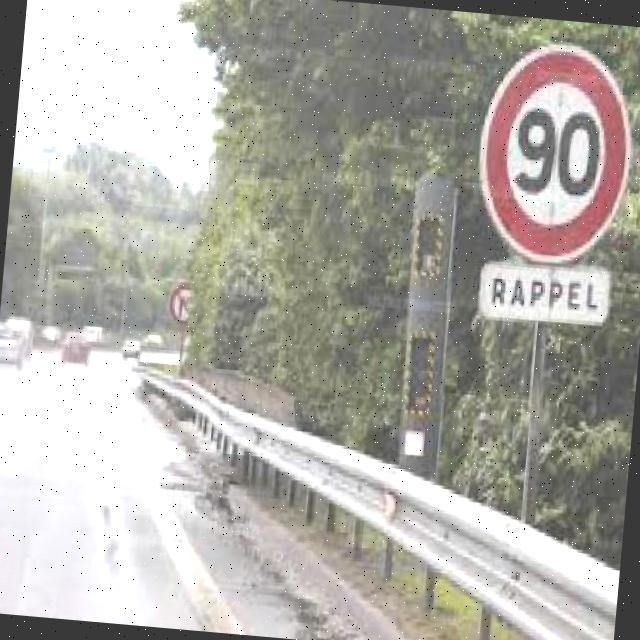Ograniczenie predkosci do 90: (472, 38, 638, 268)
